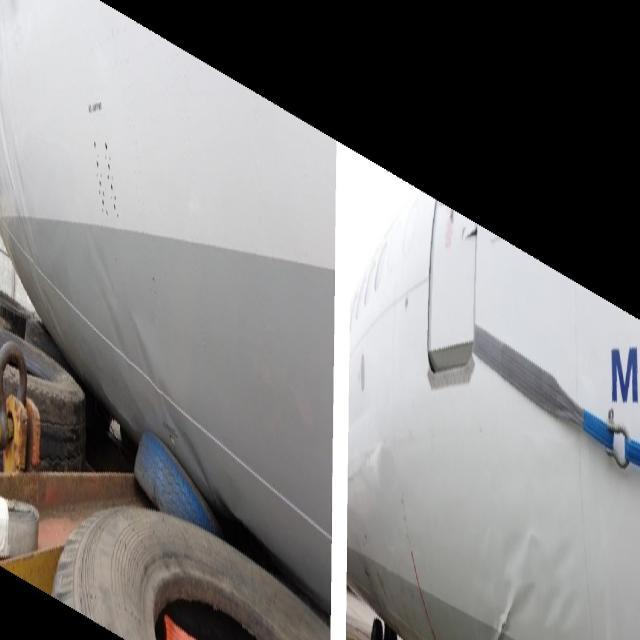dent: (78, 220, 220, 520), (496, 525, 576, 640)
